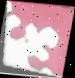dent: (0, 1, 75, 78)
